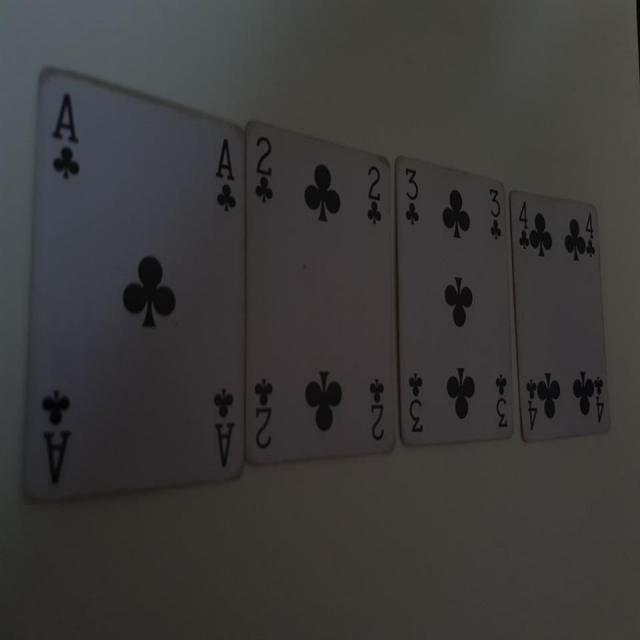2 Trefoils: (245, 121, 398, 468)
3 Trefoils: (397, 157, 516, 447)
4 Trefoils: (510, 188, 612, 444)
A Trefoils: (19, 67, 246, 500)
